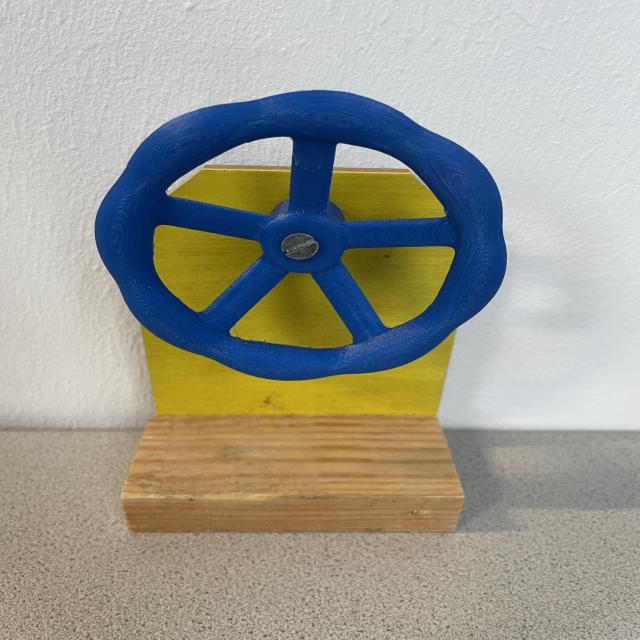Wheel Handle Valve Threaded: (93, 88, 508, 381)
